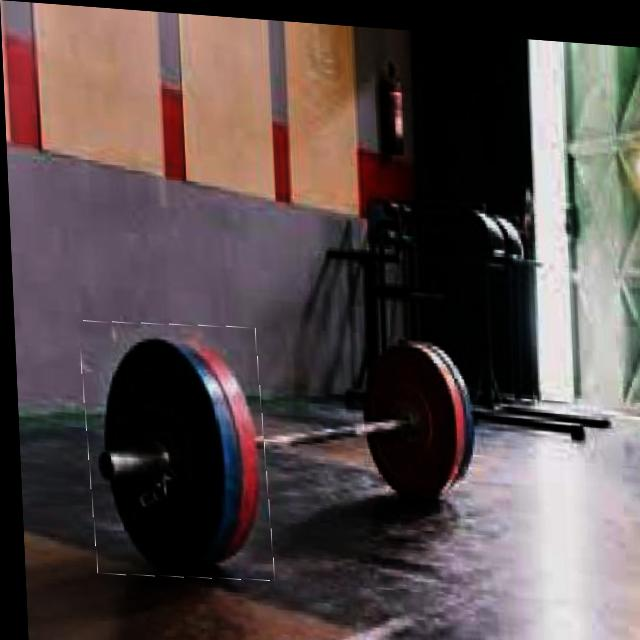barbell: (79, 316, 269, 582)
